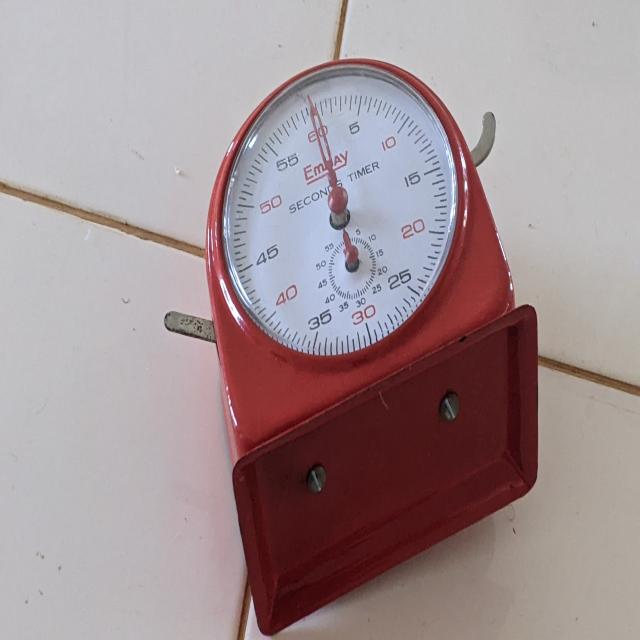Analog Stopwatch: (189, 42, 550, 633)
